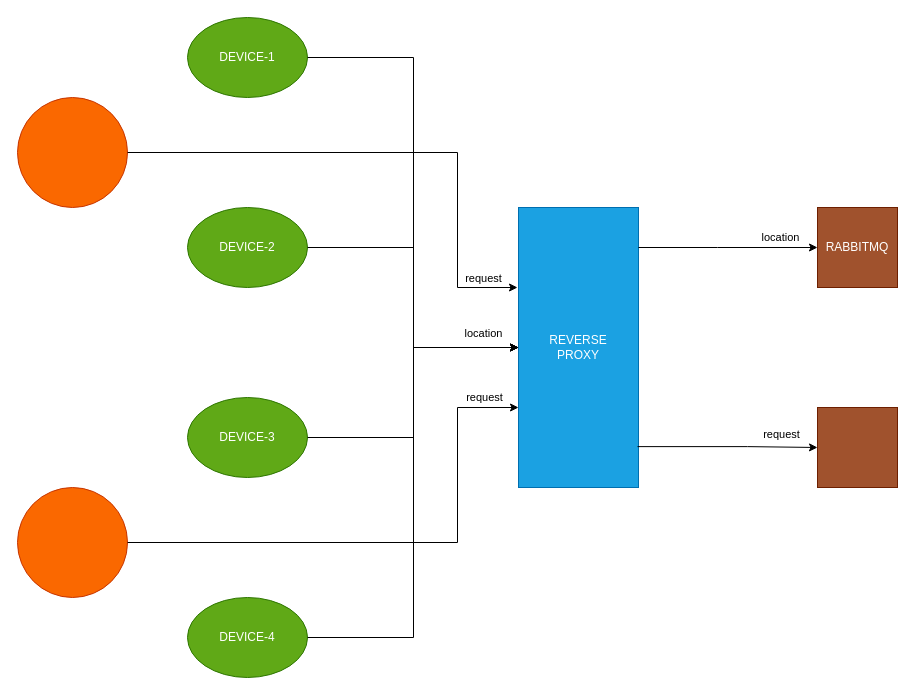
The diagram is 915 pixels wide and 695 high, and some of its shapes have lost their labels. The centre of each missing label's shape, as x and y in pixels:
"APP-1" belongs at (72,152).
"APP-2" belongs at (72,542).
"SERVICES" belongs at (857,447).
